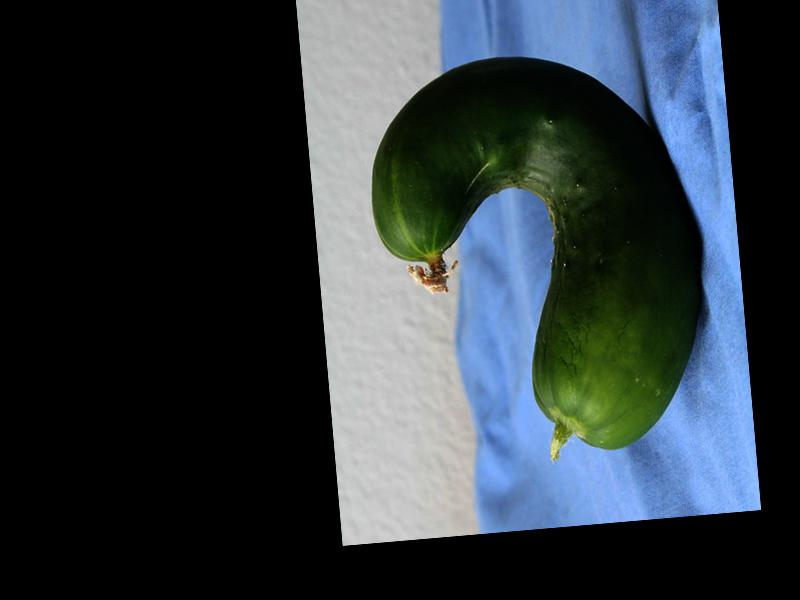Cucumber: (359, 40, 715, 468)
